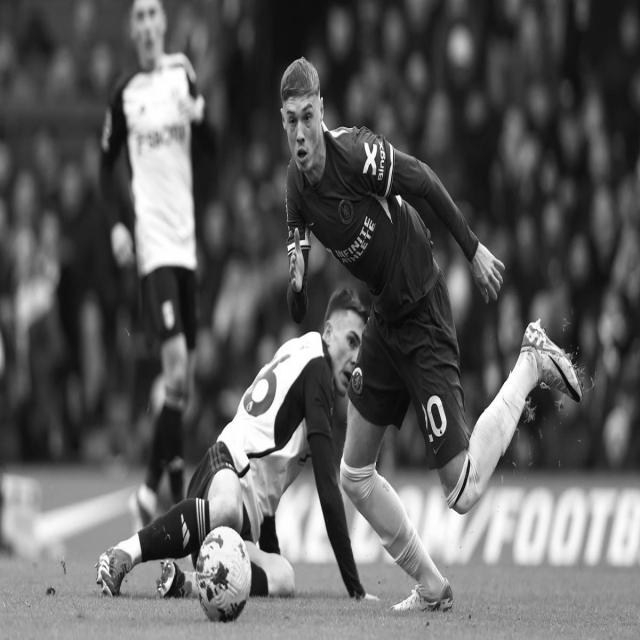football: (197, 528, 255, 625)
